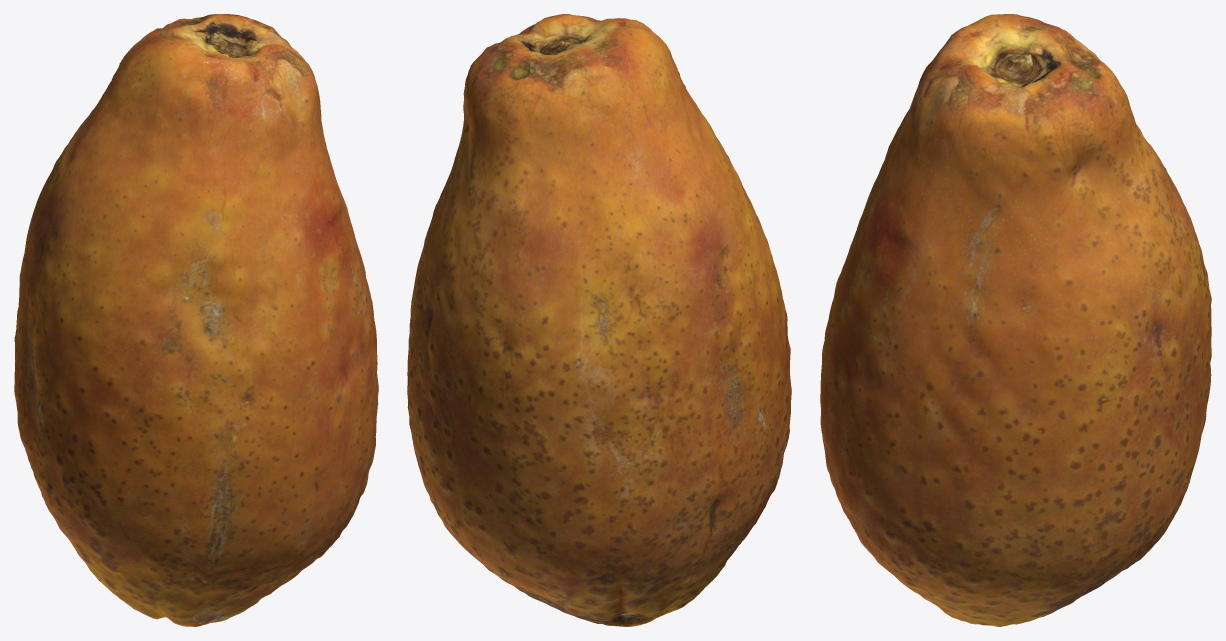
File: papaya.glb
3 views of the same model, side by side, from view 1: azimuth 30°, elevation 25°; view 2: azimuth 150°, elevation 25°; view 3: azimuth 270°, elevation 25° (orthographic). The views are drawn at different scales.
Parts seen in each view (by area): view 1: papaja; view 2: papaja; view 3: papaja.
Boxes of the visible parts, box(x1,y1,x2,y2) form: papaja: box(14, 14, 378, 626); papaja: box(407, 14, 791, 626); papaja: box(820, 14, 1211, 626).
Size of the model in its own units: 0.1247 by 0.2169 by 0.1298.
Materials: 1 (1 with a texture image).
